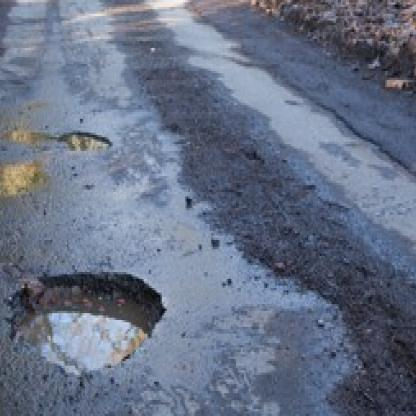pothole: (3, 270, 167, 377), (59, 130, 113, 153)
